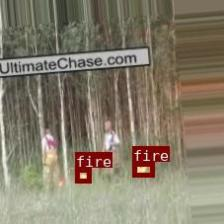fire: (132, 161, 154, 176), (74, 167, 91, 182)
